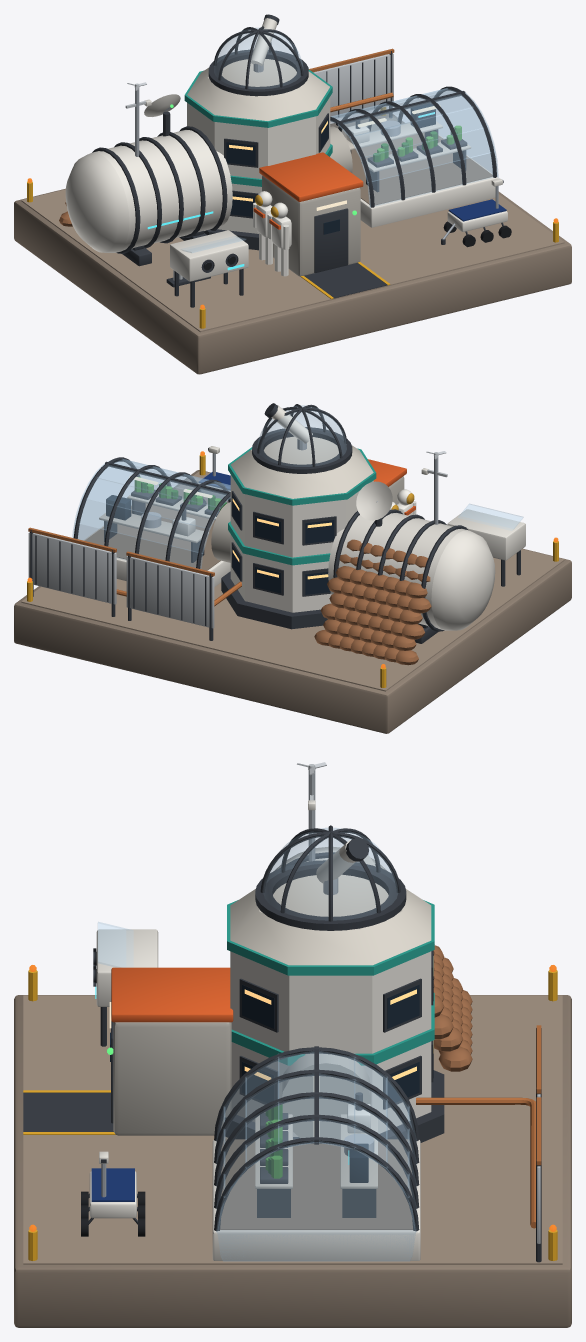
The model's file is research_lab.glb.
The picture shows the model from 3 angles, top to bottom: view 1: azimuth 30°, elevation 25°; view 2: azimuth 150°, elevation 25°; view 3: azimuth 270°, elevation 25°; orthographic projection. The views are drawn at different scales.
Visible parts, largest first — view 1: research_lab; view 2: research_lab; view 3: research_lab.
Boxes of the visible parts, left/top/right/bottom form: research_lab: left=14, top=14, right=571, bottom=374; research_lab: left=14, top=403, right=571, bottom=733; research_lab: left=14, top=770, right=571, bottom=1327.
Bounding box in the file's own units: 7.2 × 4.1 × 5.9.
